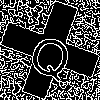Q: (25, 25, 78, 84)
